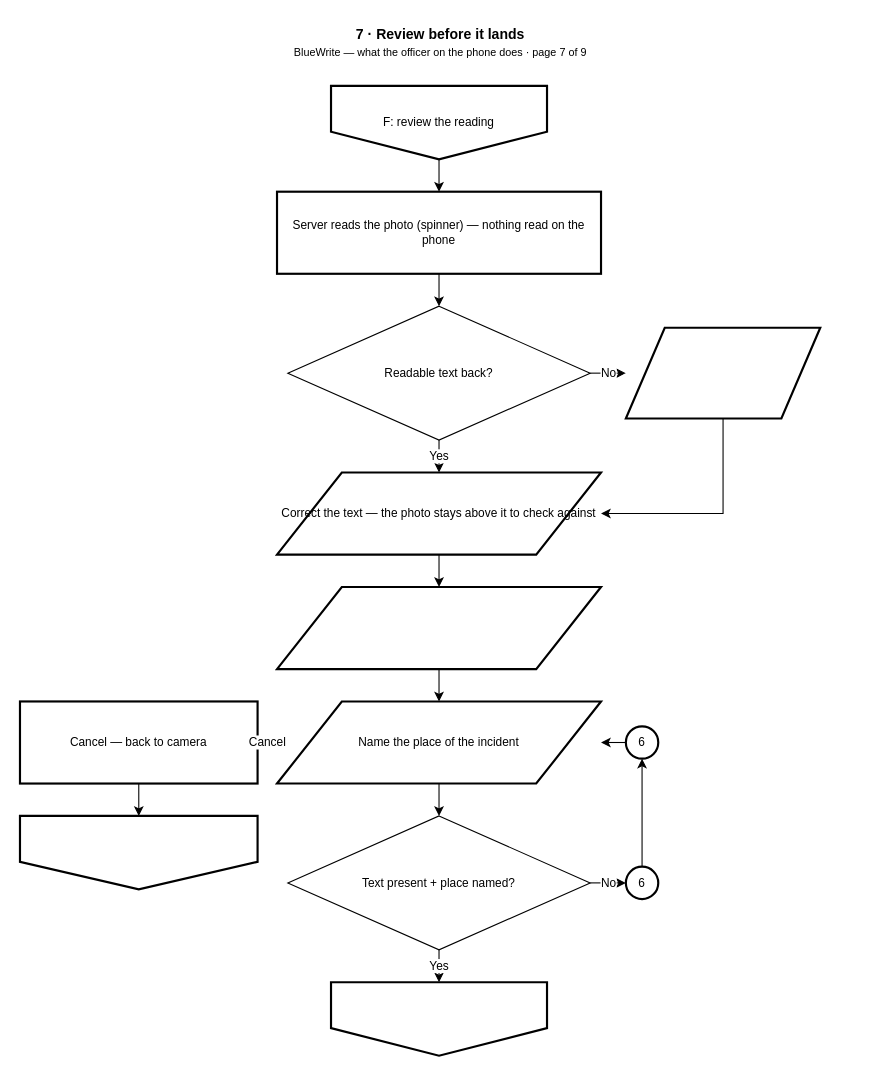
This 872x1075 diagram has some shape labels left out. The shapes that lost their labels are listed below. From the top down, each one's box as (x1, y1, x2, y2) in pixels, then its label:
(624, 326, 821, 419): Photo held no text — type the account by hand here
(275, 585, 602, 670): Recorded by (your name, editable) + Requested by + certification
(18, 814, 258, 890): E: back to camera
(329, 981, 548, 1056): G: filing (next)
